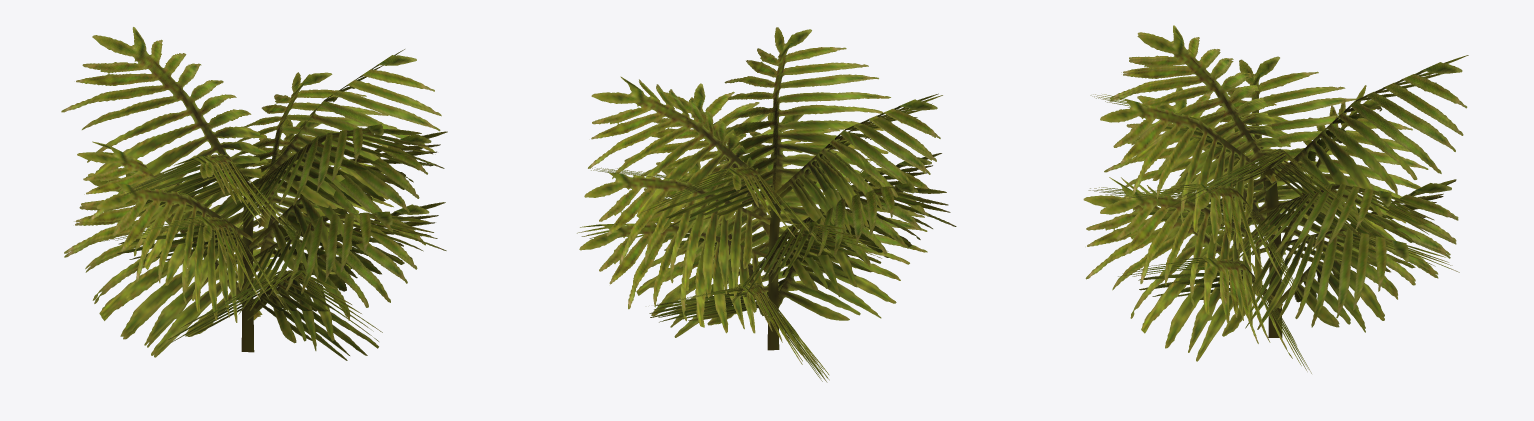
Rendered from bushpalm.fbx.
3 views of the same model, side by side, from view 1: azimuth 30°, elevation 25°; view 2: azimuth 150°, elevation 25°; view 3: azimuth 270°, elevation 25° (orthographic). The views are drawn at different scales.
Parts seen in each view (by area): view 1: pasted__Bush02; view 2: pasted__Bush02; view 3: pasted__Bush02.
Boxes of the visible parts, box(x1,y1,x2,y2) form: pasted__Bush02: box(61, 27, 447, 360); pasted__Bush02: box(577, 27, 956, 382); pasted__Bush02: box(1083, 25, 1468, 373).
Bounding box in the file's own units: 144 × 106 × 147.
